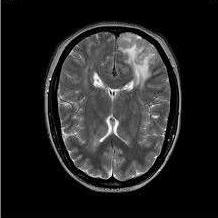Normal_Brain: (48, 26, 190, 208)
